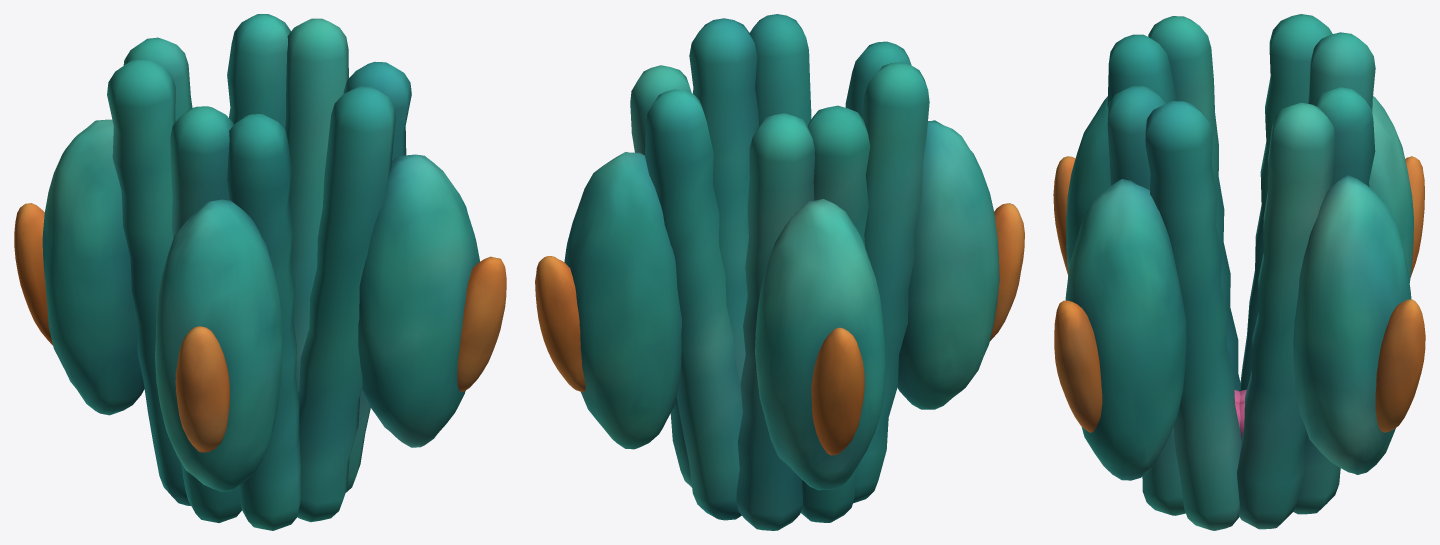
File: k-channel.glb
3 views of the same model, side by side, from view 1: azimuth 30°, elevation 25°; view 2: azimuth 150°, elevation 25°; view 3: azimuth 270°, elevation 25° (orthographic).
Visible parts, largest first — view 1: k-channel-domains, k-channel-paddles; view 2: k-channel-domains, k-channel-paddles; view 3: k-channel-domains, k-channel-paddles.
Part boxes in pixels (left/top/right/bottom): k-channel-domains: left=42, top=14, right=479, bottom=530; k-channel-paddles: left=14, top=203, right=506, bottom=452; k-channel-domains: left=564, top=14, right=999, bottom=530; k-channel-paddles: left=535, top=203, right=1024, bottom=455; k-channel-domains: left=1065, top=14, right=1413, bottom=530; k-channel-paddles: left=1053, top=156, right=1425, bottom=432.
Size of what is drawn, in the model's own units: 0.9456 by 1.22 by 0.9302.
